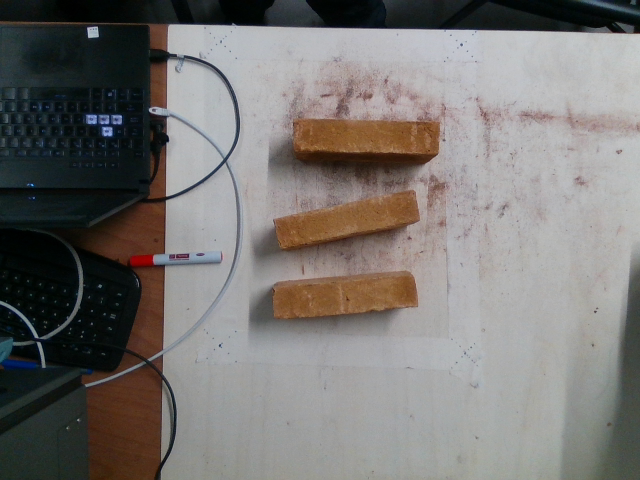brick-side: (273, 193, 416, 246), (274, 275, 417, 318), (297, 119, 438, 150)
